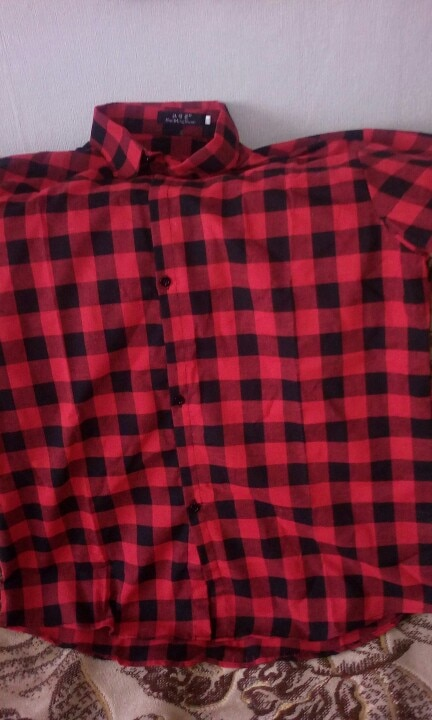shirts: (18, 97, 432, 681)
